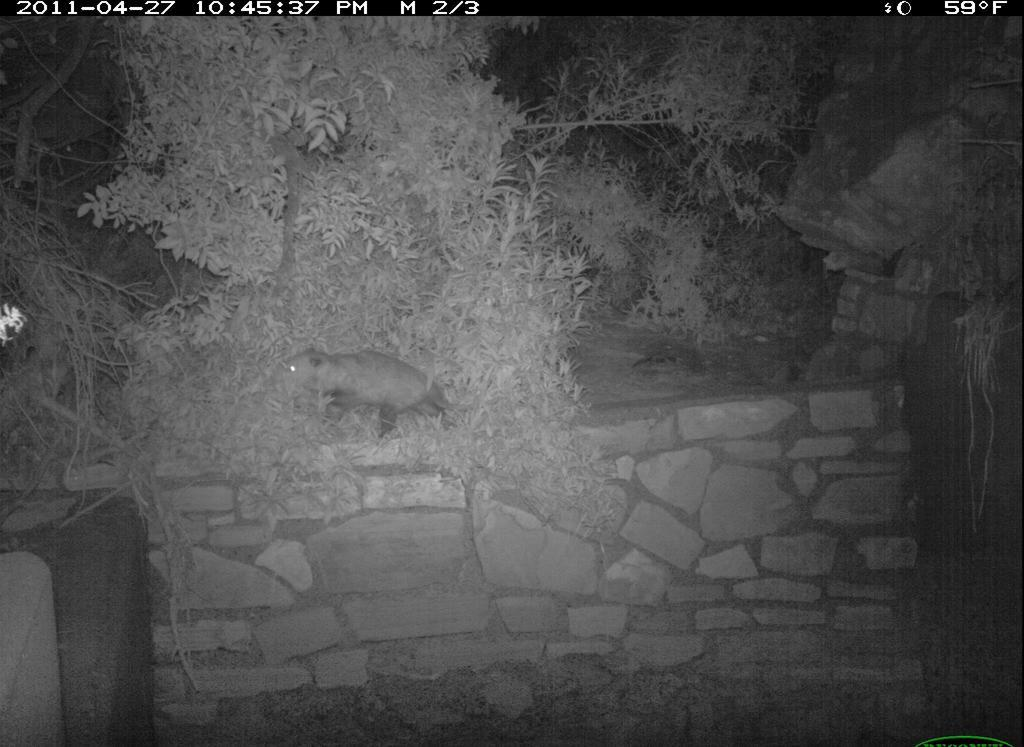opossum: (274, 341, 486, 460)
